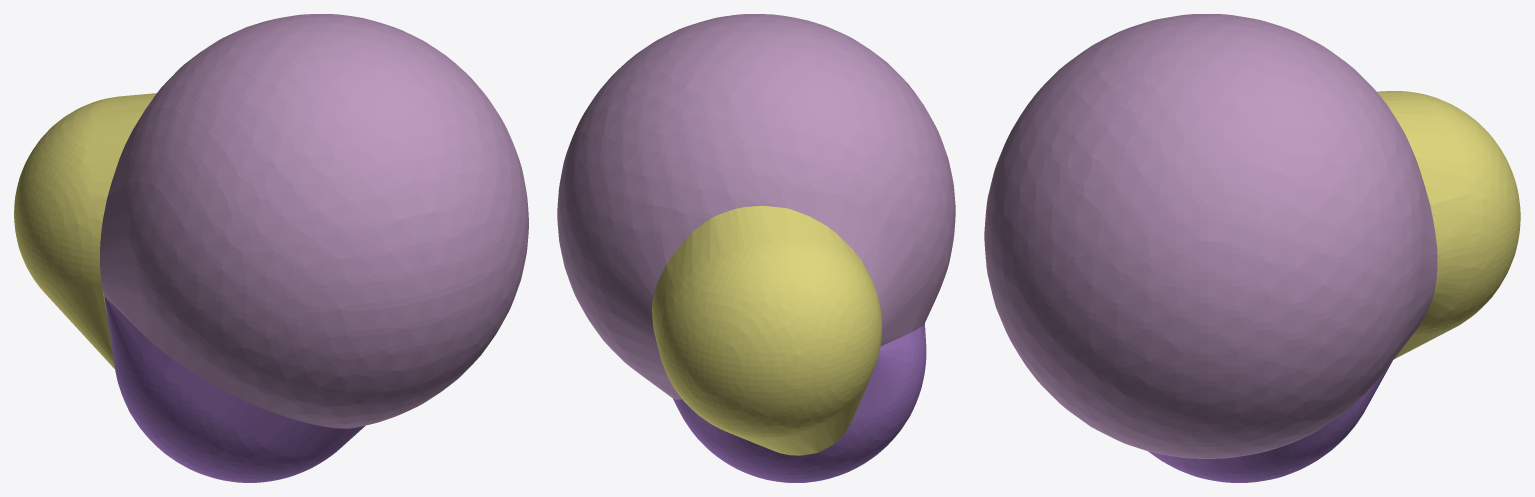
Rendered from decomposed.glb.
3 views of the same model, side by side, from view 1: azimuth 30°, elevation 25°; view 2: azimuth 150°, elevation 25°; view 3: azimuth 270°, elevation 25° (orthographic). The views are drawn at different scales.
Visible parts, largest first — view 1: world; view 2: world; view 3: world.
Part boxes in pixels (left/top/right/bottom): world: left=14, top=14, right=528, bottom=482; world: left=557, top=14, right=955, bottom=482; world: left=984, top=14, right=1520, bottom=482.
Bounding box in the file's own units: 1.19 × 1.28 × 1.34.
